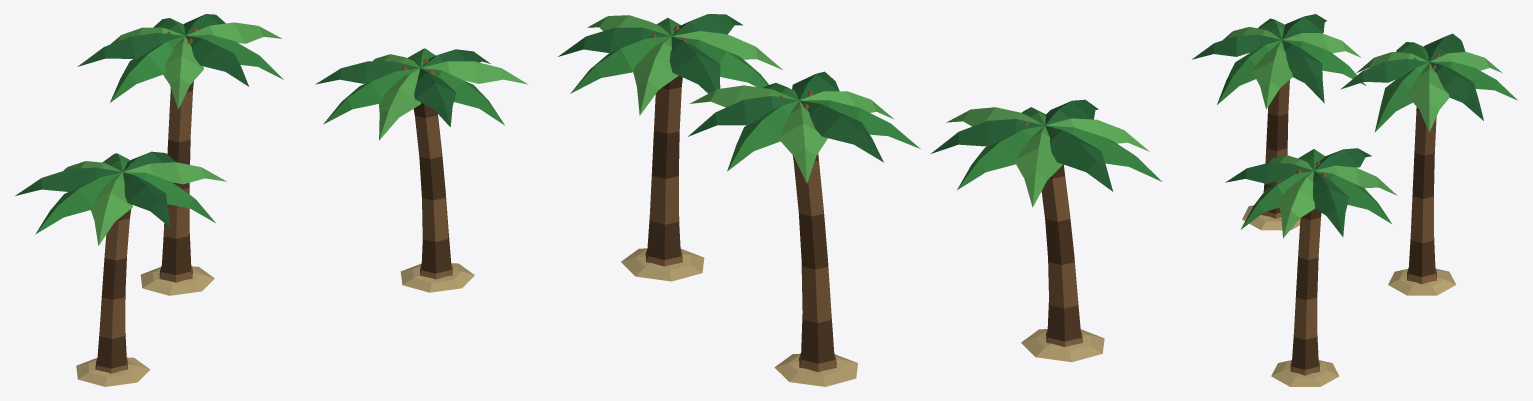
Rendered from Decor_PirateShip_Palms.fbx.
3 views of the same model, side by side, from view 1: azimuth 30°, elevation 25°; view 2: azimuth 150°, elevation 25°; view 3: azimuth 270°, elevation 25° (orthographic). The views are drawn at different scales.
Visible parts, largest first — view 1: Palms_Body; view 2: Palms_Body; view 3: Palms_Body.
Boxes of the visible parts, x1,y1,x2,y2 form: Palms_Body: (15, 14, 528, 386); Palms_Body: (558, 14, 1161, 386); Palms_Body: (1192, 14, 1517, 386).
Size of the model in its own units: 36 by 16.7 by 21.49.
